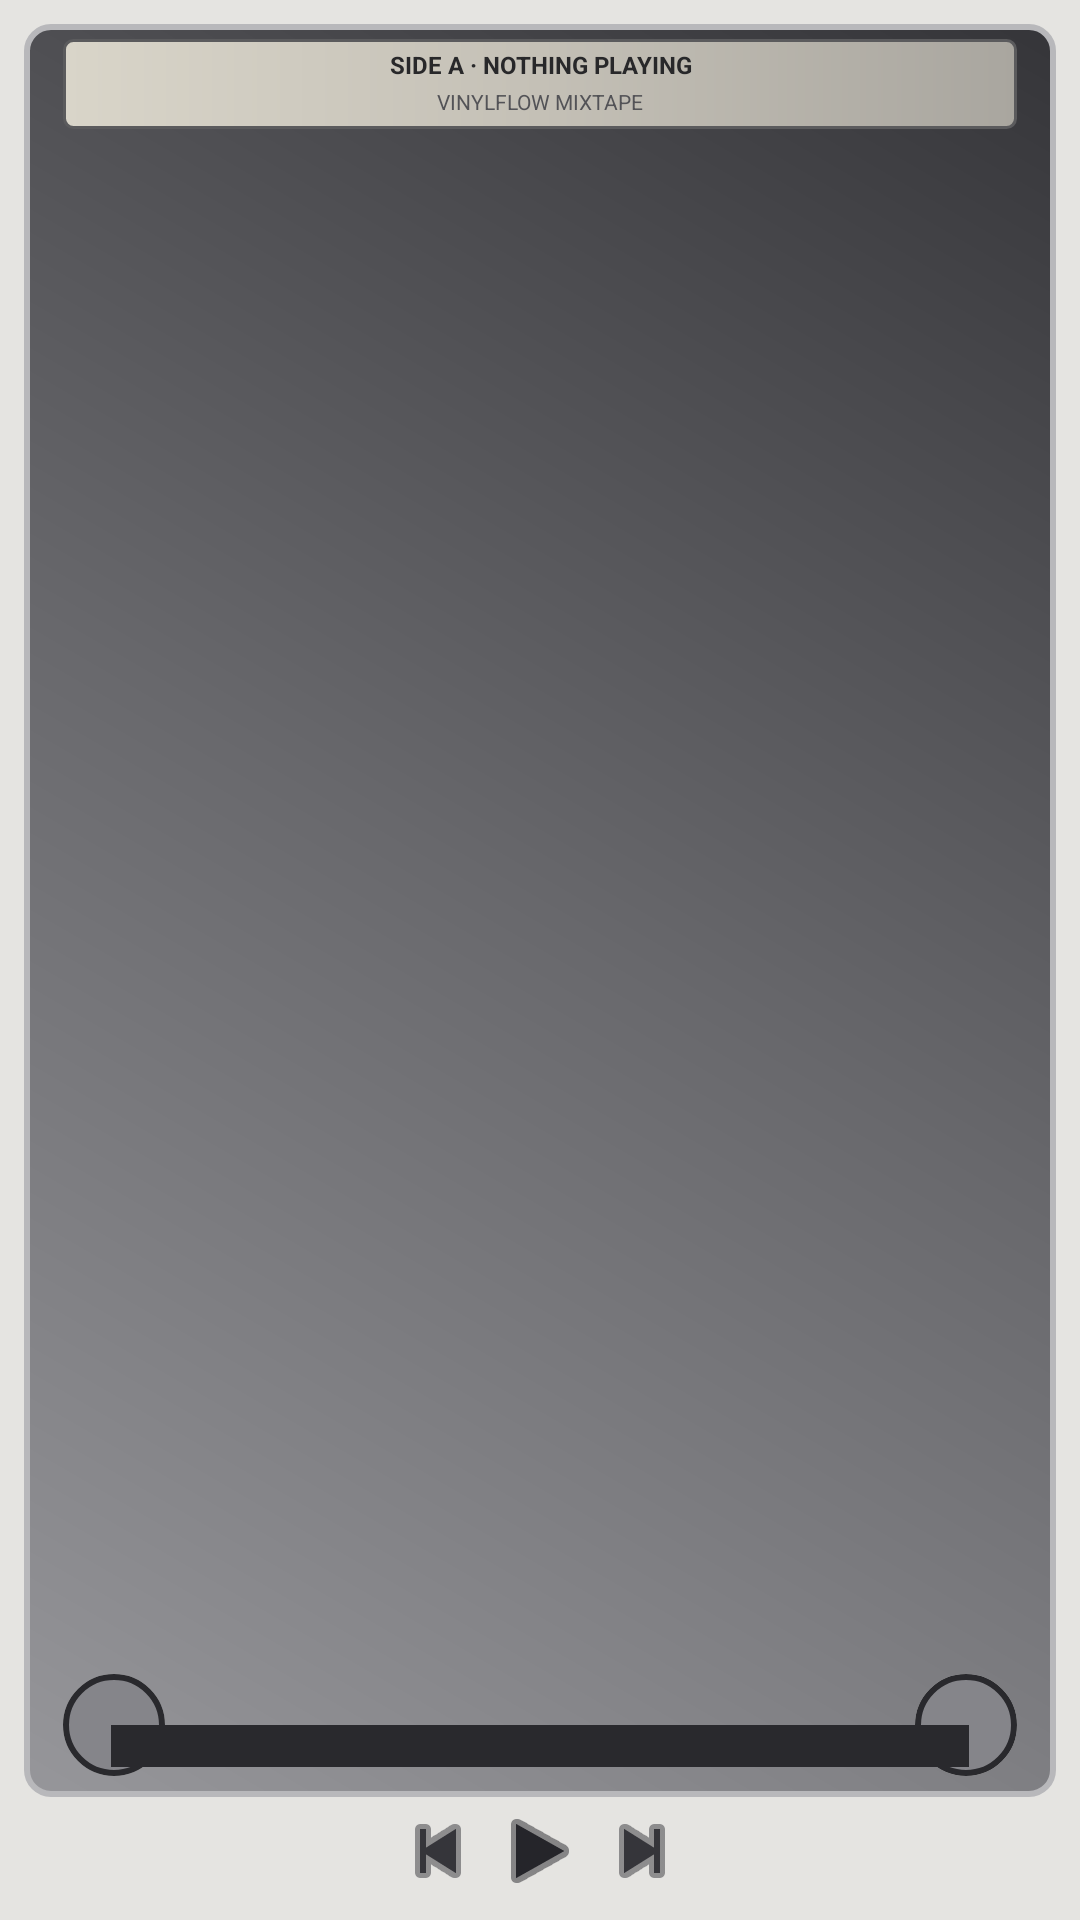

Icon click points for this 1080 × 1920 phone screenshot, format [x,y]:
Cassette reel: [114,1725], [966,1725]
Next: [642,1851]
Play or pause: [540,1851]
Previous: [438,1851]
